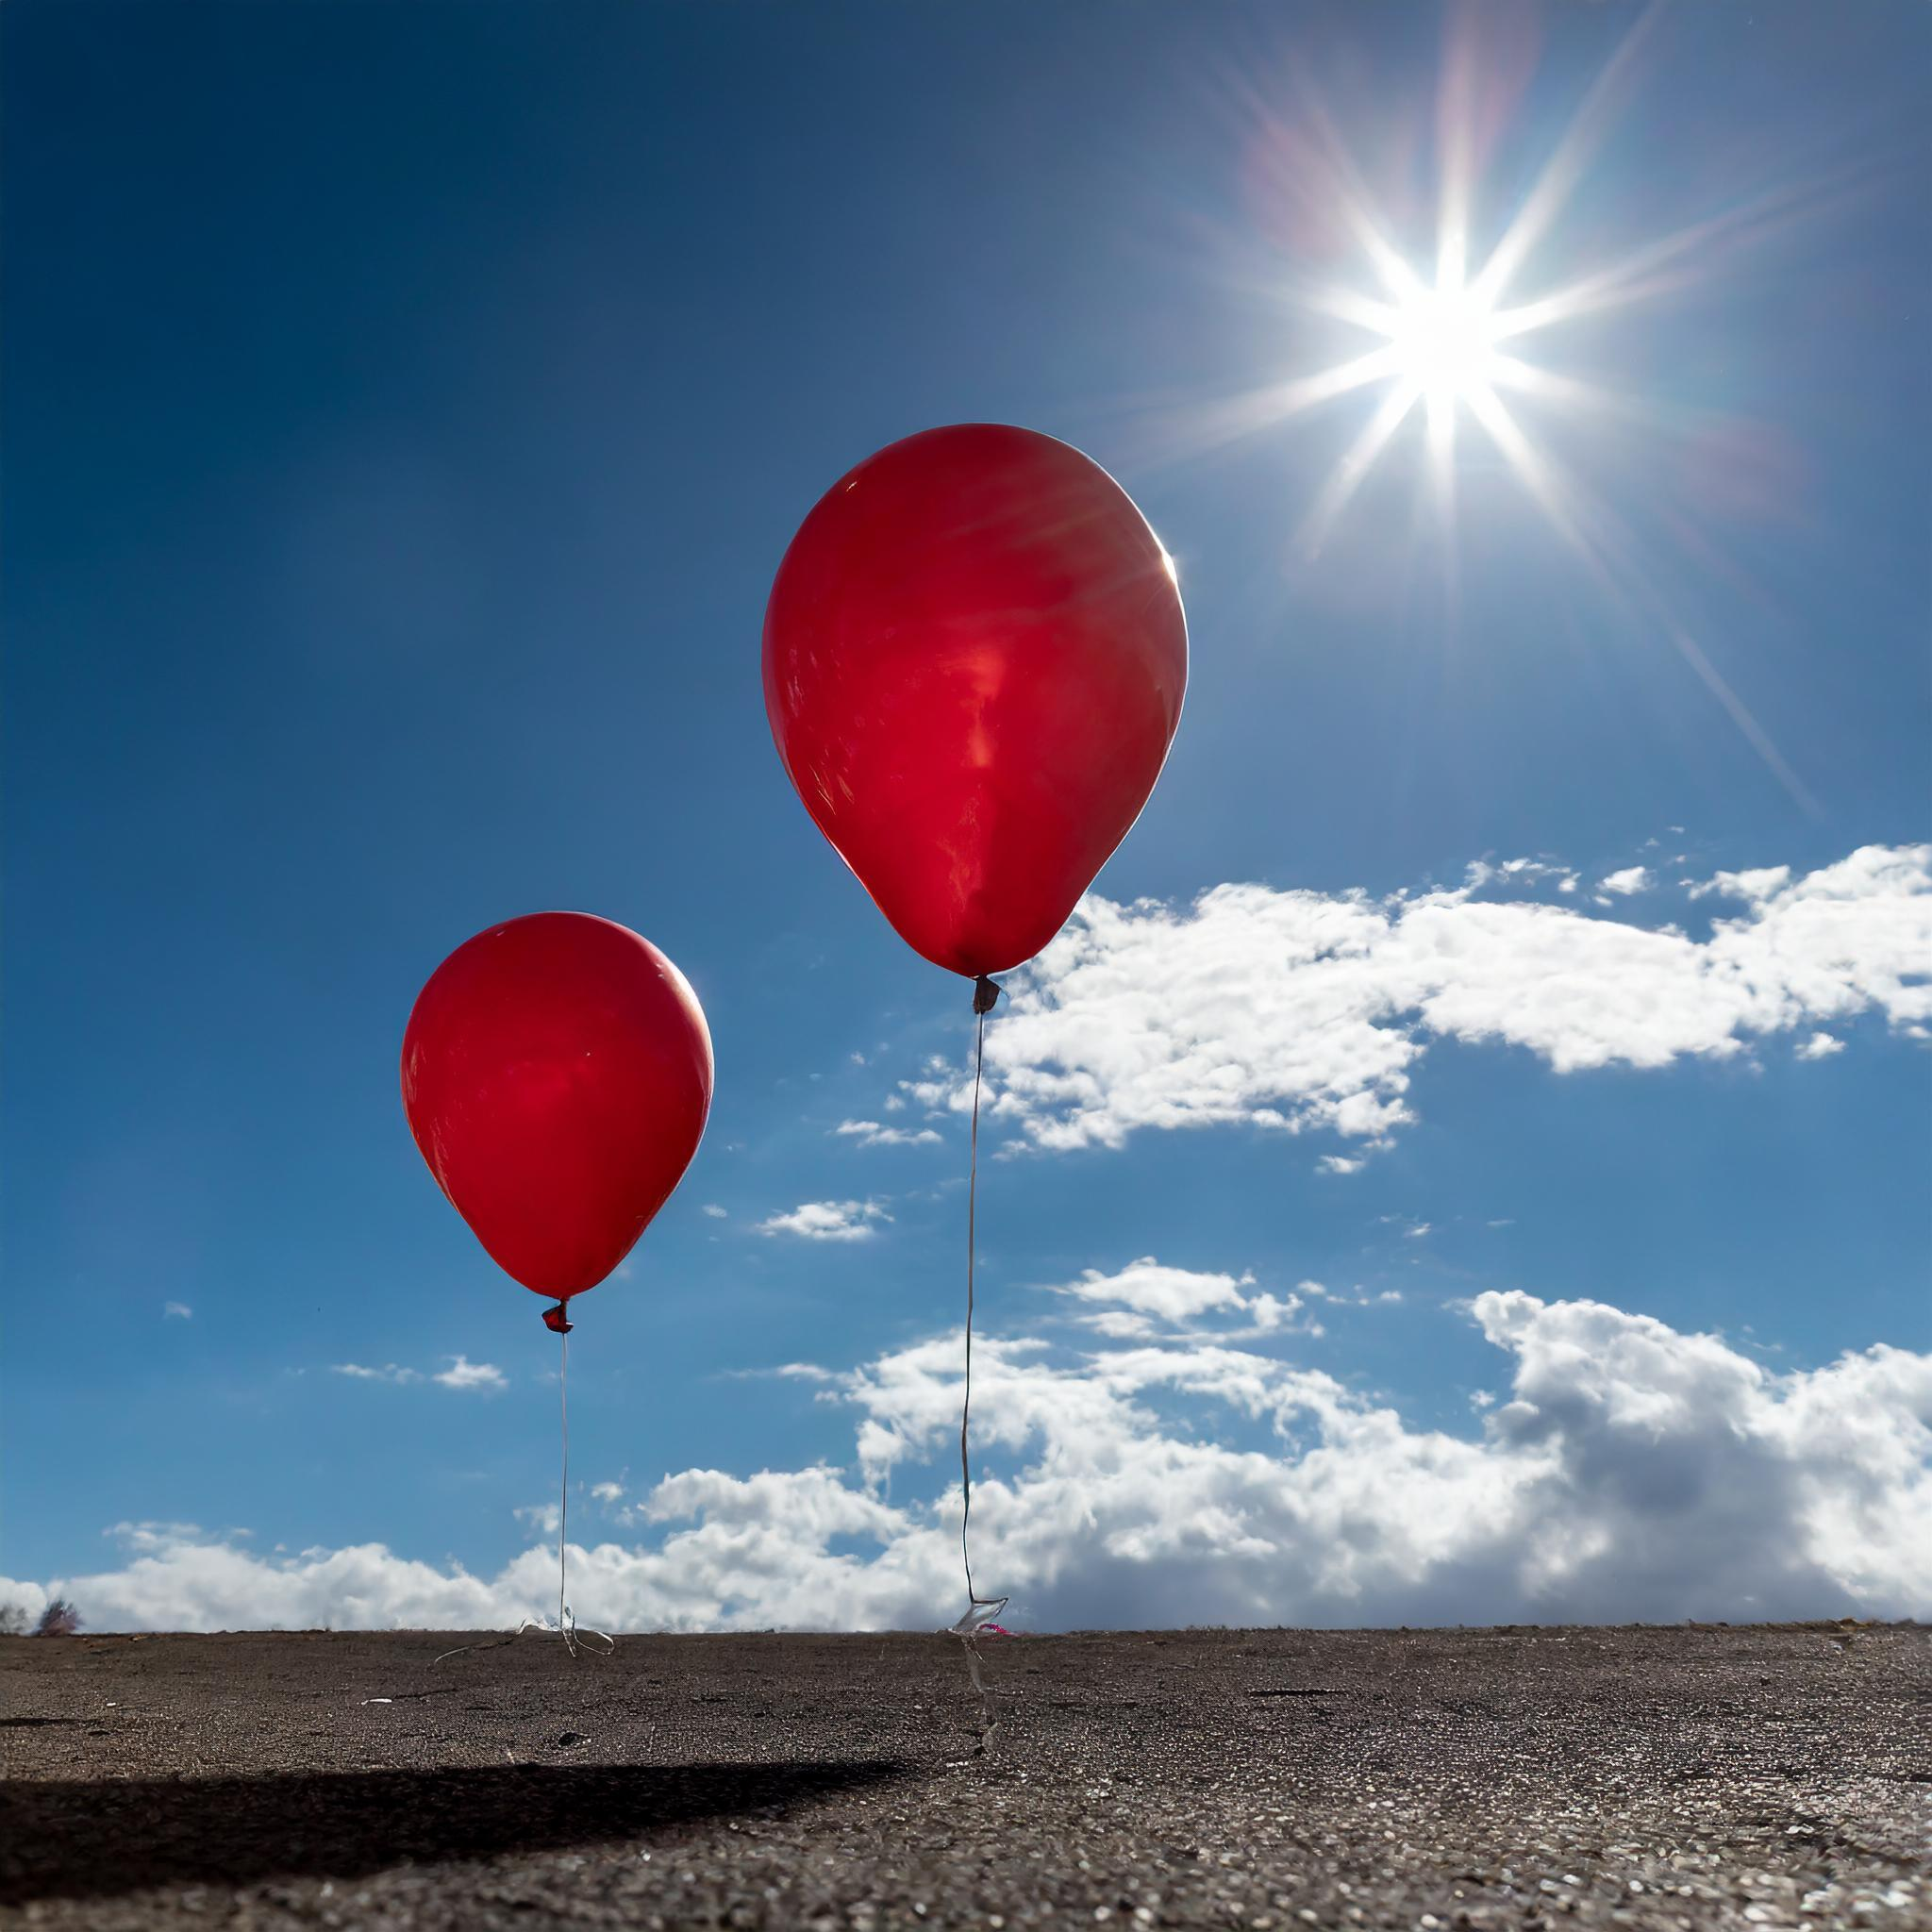red: (743, 407, 1200, 1040), (379, 883, 740, 1368)
